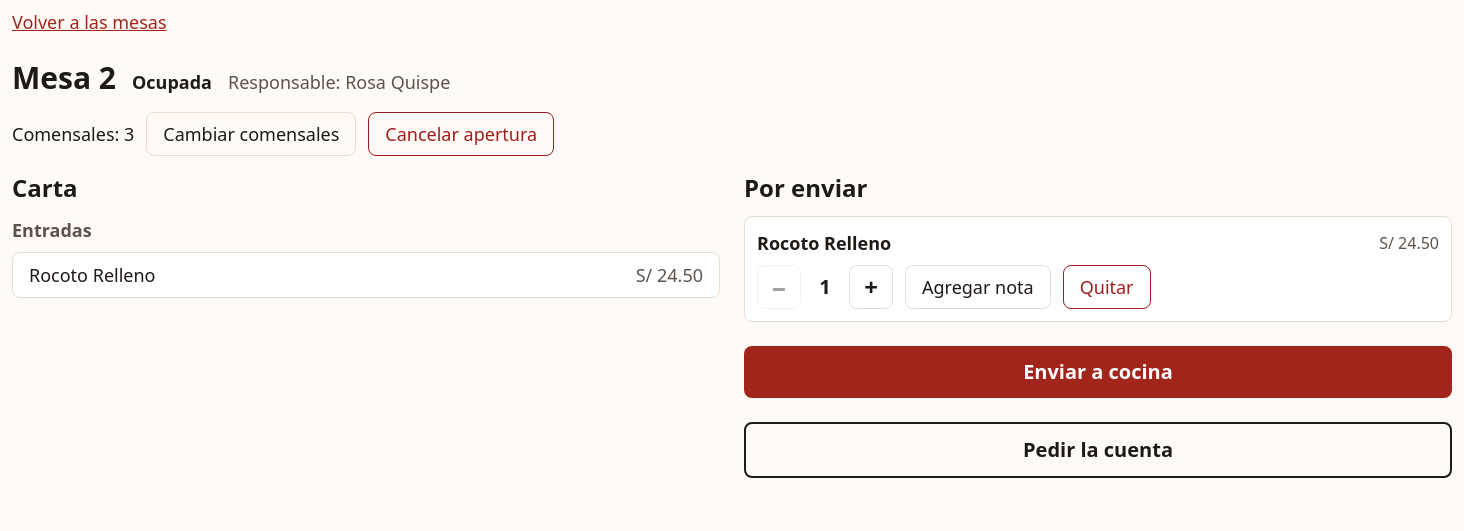
Test: Feature 003 — pedido de una mesa (/mozo/pedidos/:orderId) › [003] AC-3.4: si otro mozo ya envió, se ve que no hay nada nuevo que enviar
Click the button "Enviar a cocina" at (1098, 372), box x1=744 y1=346 x2=1452 y2=398
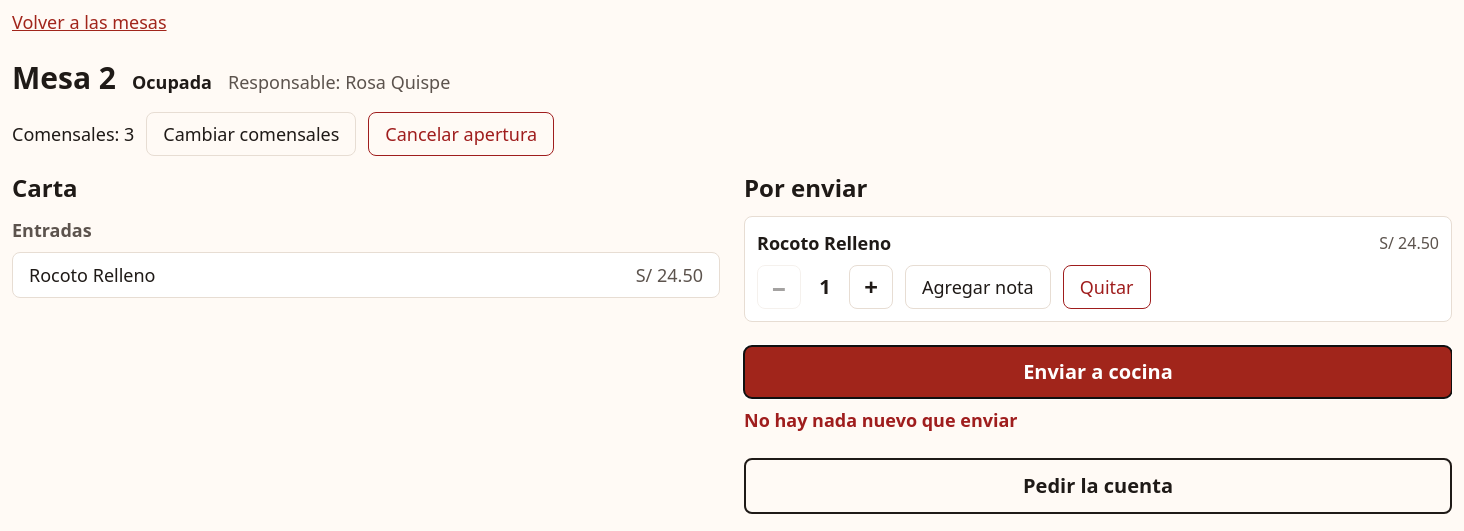
Result: the message reads "No hay nada nuevo que enviar" at x1=744 y1=408 x2=1018 y2=432
